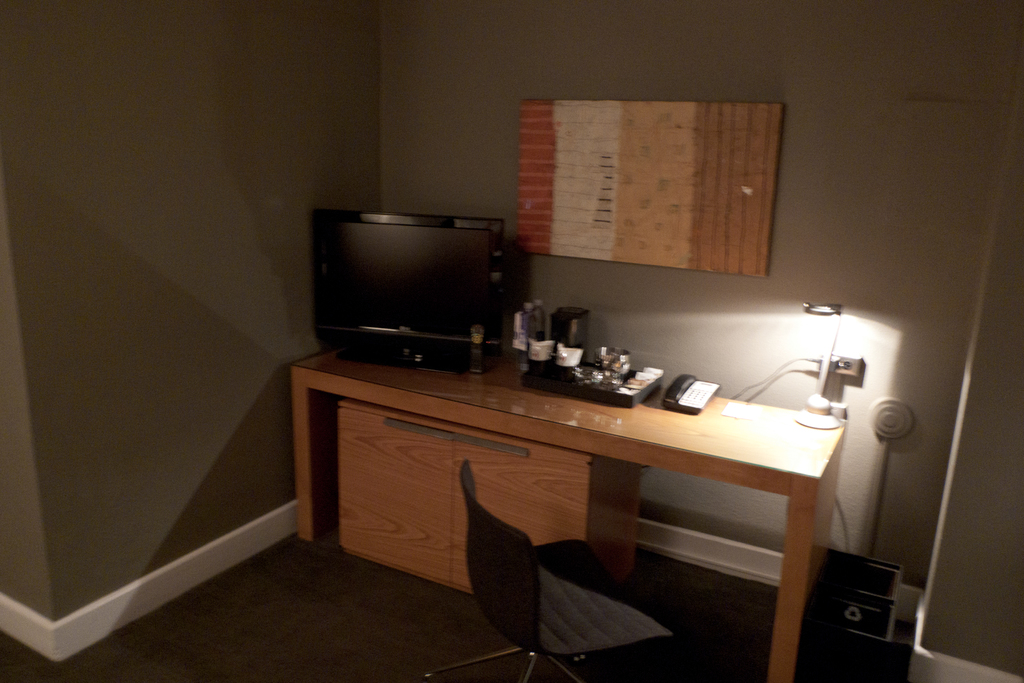cabinet door: (346, 416, 450, 563)
handle: (462, 434, 526, 464), (386, 415, 450, 441)
